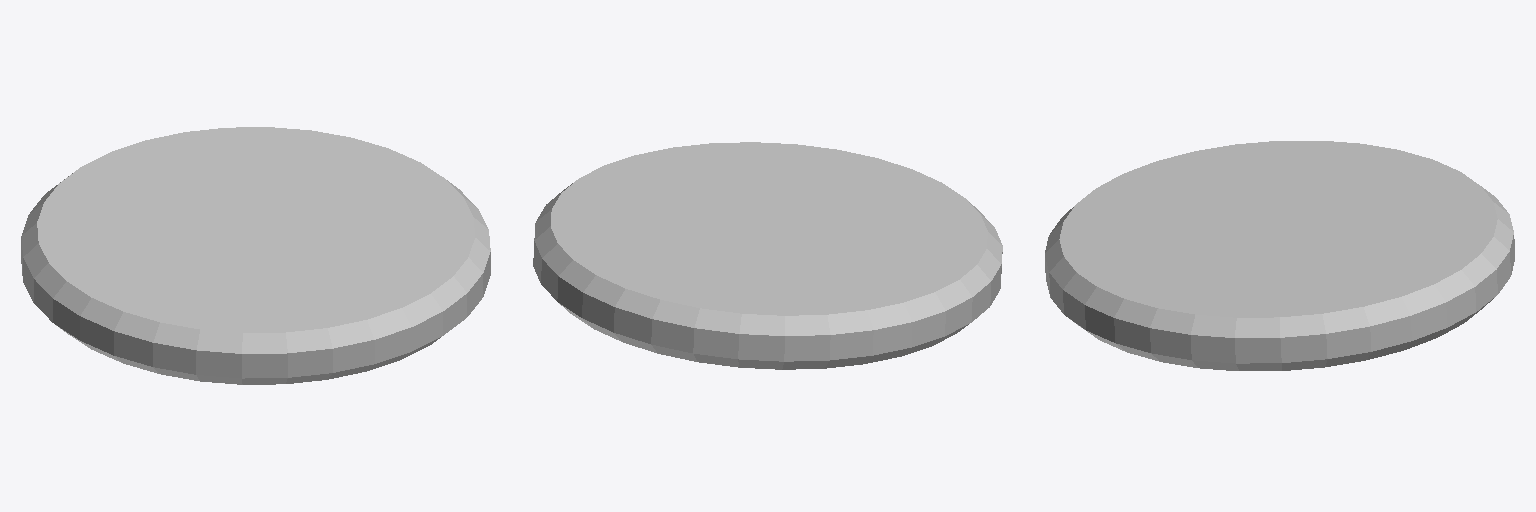
The model's file is burger_pattie.obj.
3 renders of one model, left to right at view 1: azimuth 30°, elevation 25°; view 2: azimuth 150°, elevation 25°; view 3: azimuth 270°, elevation 25°, orthographic.
Visible parts, largest first — view 1: Cylinder.004; view 2: Cylinder.004; view 3: Cylinder.004.
Boxes of the visible parts, <box> form: Cylinder.004: <box>21,127,490,384</box>; Cylinder.004: <box>533,142,1002,369</box>; Cylinder.004: <box>1045,141,1514,370</box>.
Size of the model in its own units: 2 by 0.3497 by 2.